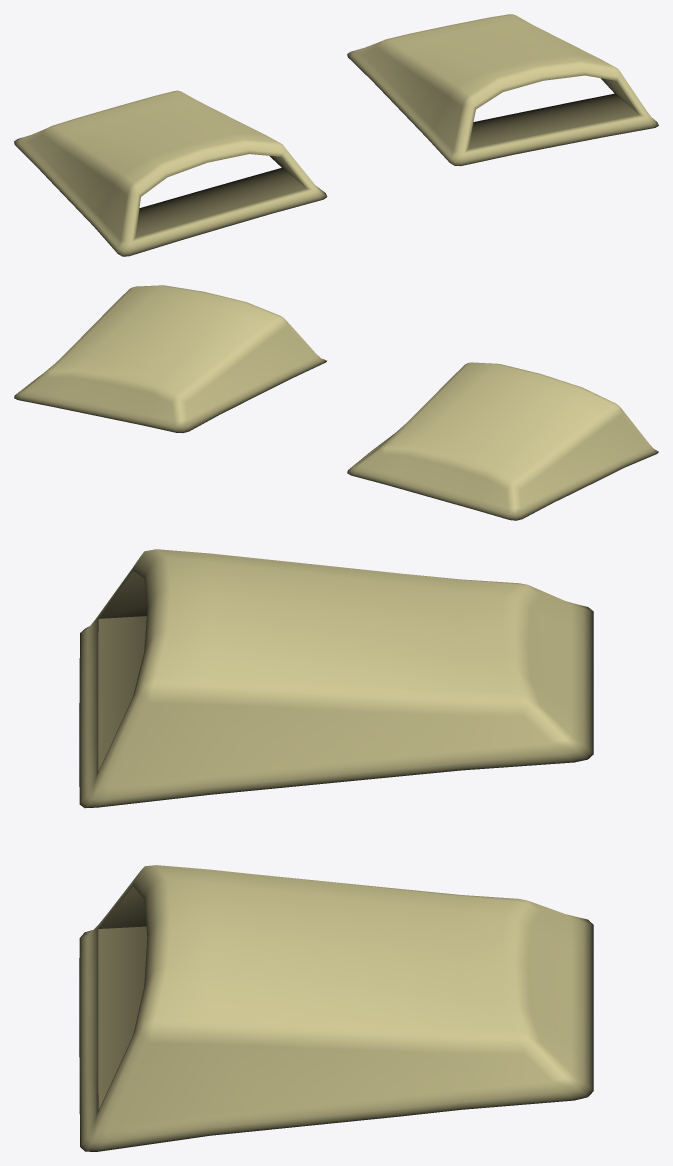
Rendered from R34_RoofScoop_02_Duco.fbx.
The picture shows the model from 3 angles, top to bottom: view 1: azimuth 30°, elevation 25°; view 2: azimuth 150°, elevation 25°; view 3: azimuth 270°, elevation 25°; orthographic projection. The views are drawn at different scales.
Visible parts, largest first — view 1: R34_RoofScoop_02_Duco; view 2: R34_RoofScoop_02_Duco; view 3: R34_RoofScoop_02_Duco.
Part boxes in pixels (x1,y1,x2,y2): R34_RoofScoop_02_Duco: (14,14,658,256); R34_RoofScoop_02_Duco: (14,285,658,520); R34_RoofScoop_02_Duco: (79,549,593,1151).
Bounding box in the file's own units: 67.2 × 8.11 × 27.73.
